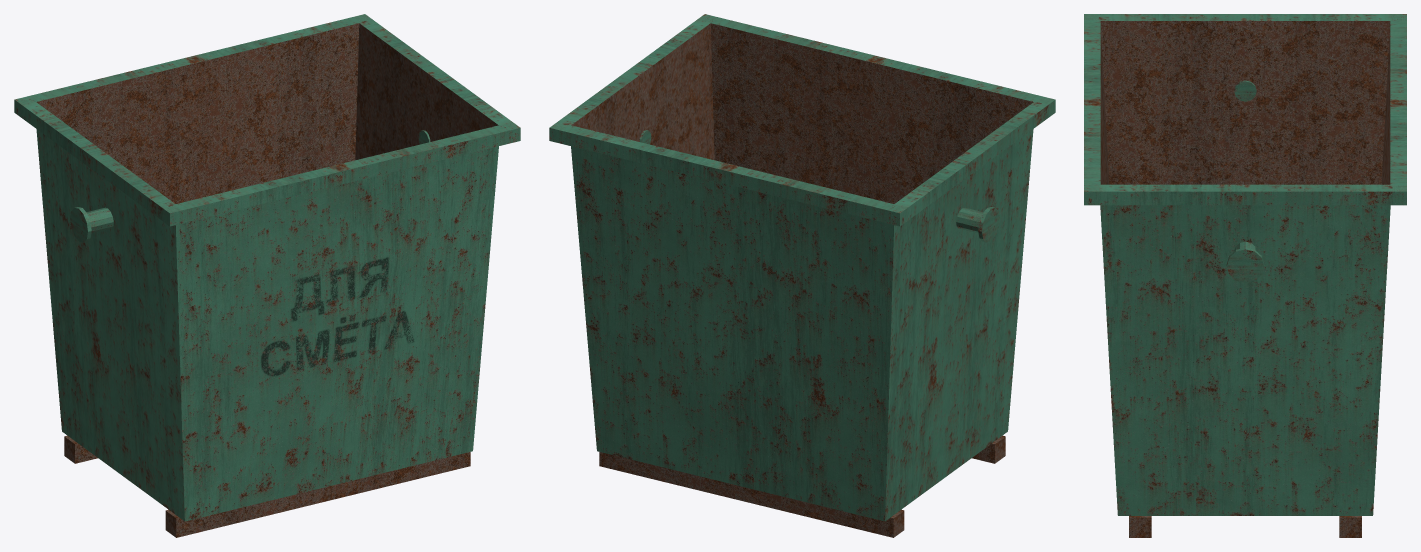
The model's file is container075_web.glb.
3 views of the same model, side by side, from view 1: azimuth 30°, elevation 25°; view 2: azimuth 150°, elevation 25°; view 3: azimuth 270°, elevation 25° (orthographic). The views are drawn at different scales.
Visible parts, largest first — view 1: Container075_Mesh; view 2: Container075_Mesh; view 3: Container075_Mesh.
Boxes of the visible parts, x1,y1,x2,y2 form: Container075_Mesh: (14, 14, 520, 537); Container075_Mesh: (549, 14, 1055, 537); Container075_Mesh: (1084, 14, 1406, 537).
Bounding box in the file's own units: 1.2 × 1.06 × 0.86.
3 materials, 3 textured.
